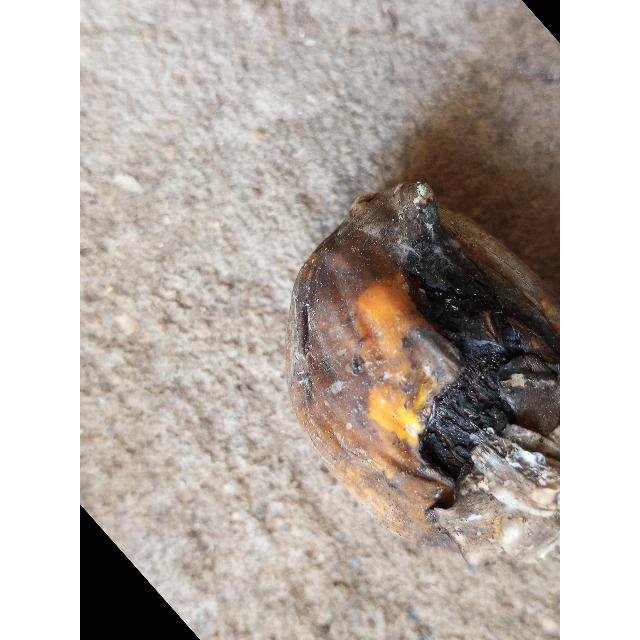damaged: (288, 182, 560, 568)
